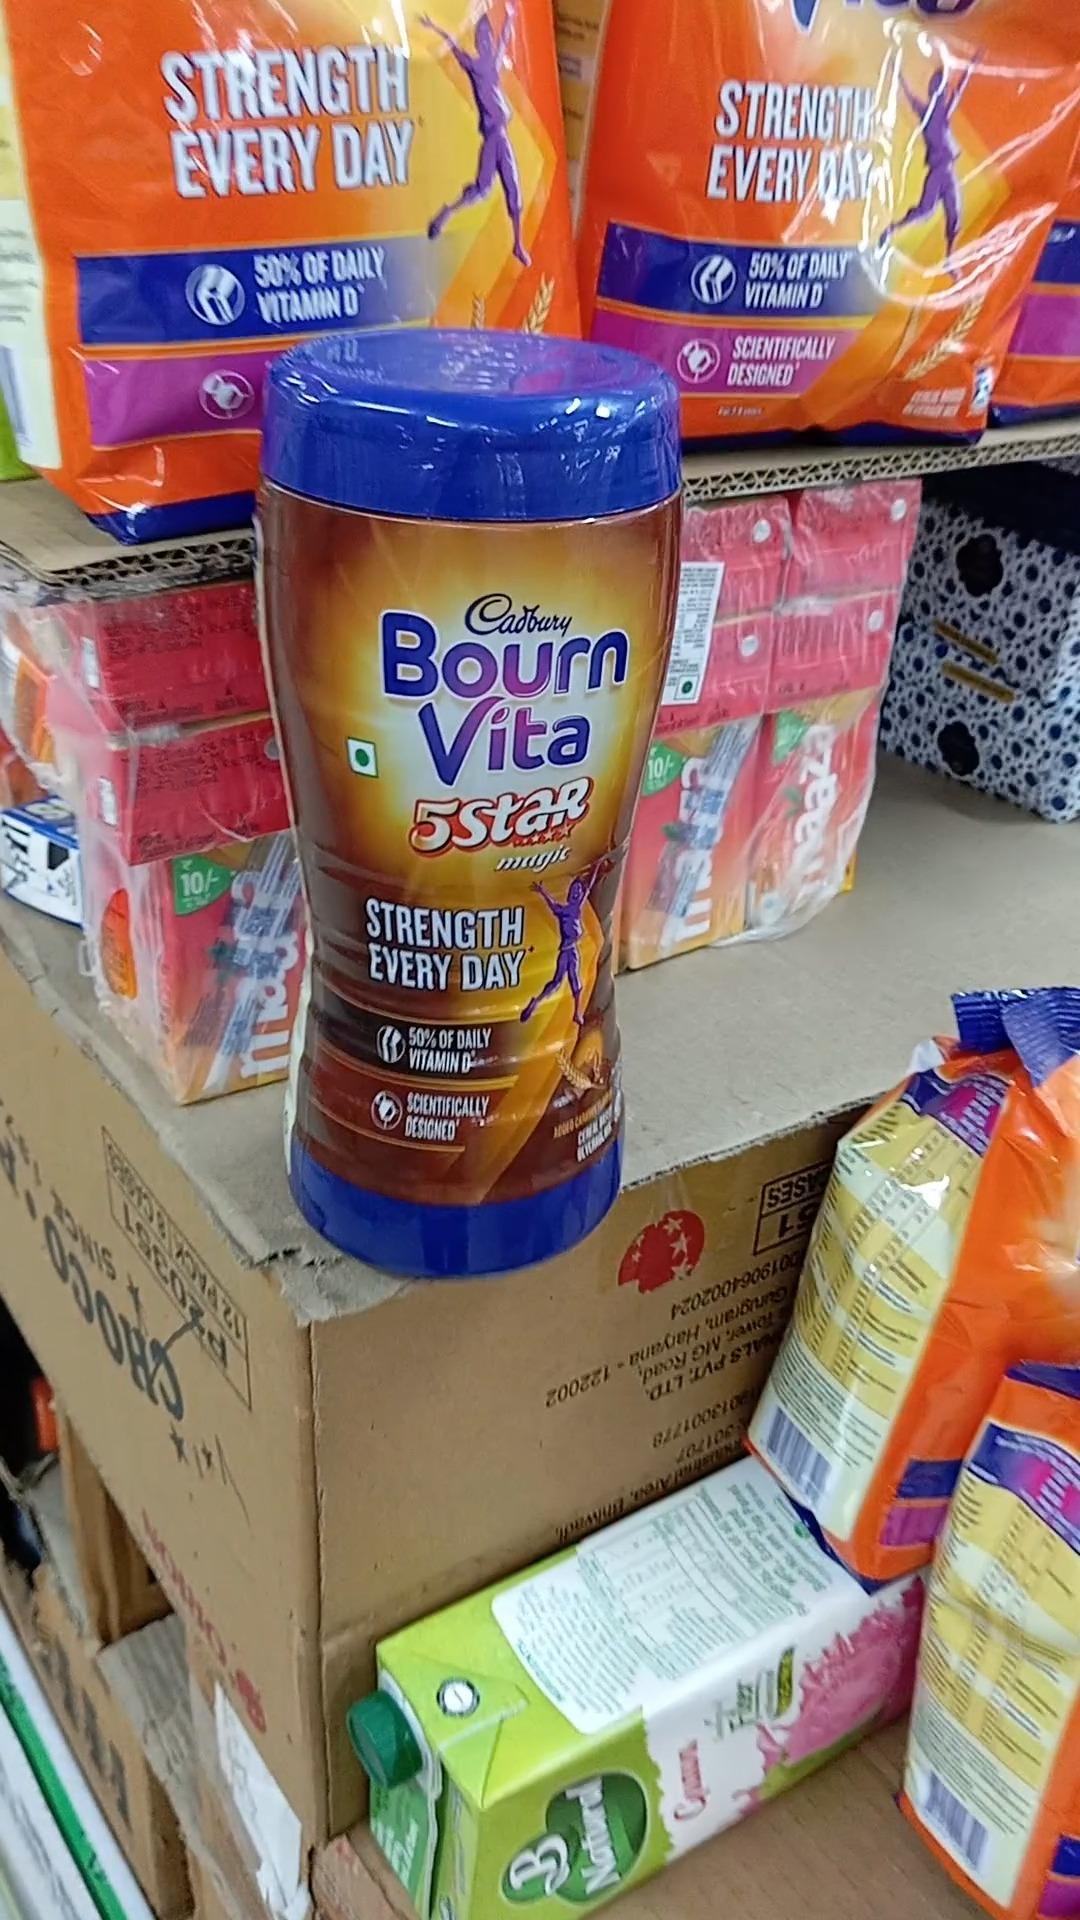BOURN_VITA_FIVE_STAR_MAGIC_500_G_JAR: (262, 334, 675, 1278)
